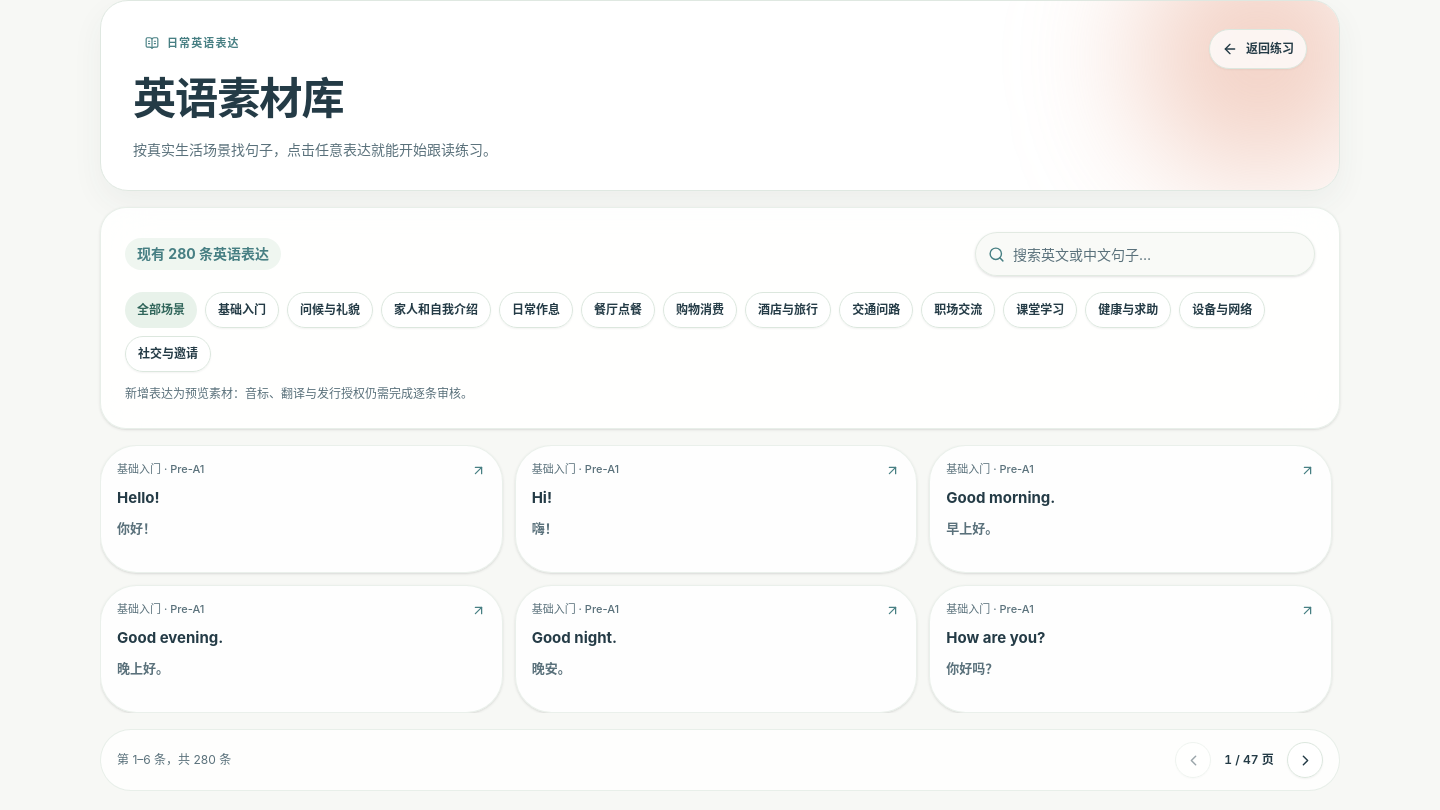
Test: Voxnelo searchable course catalog › searches bilingual source text and resets result pagination
This screenshot has width=1440, height=810.
Click the button named "下一页".
click(1305, 760)  # box top-left (1287, 742), bottom-right (1323, 778)
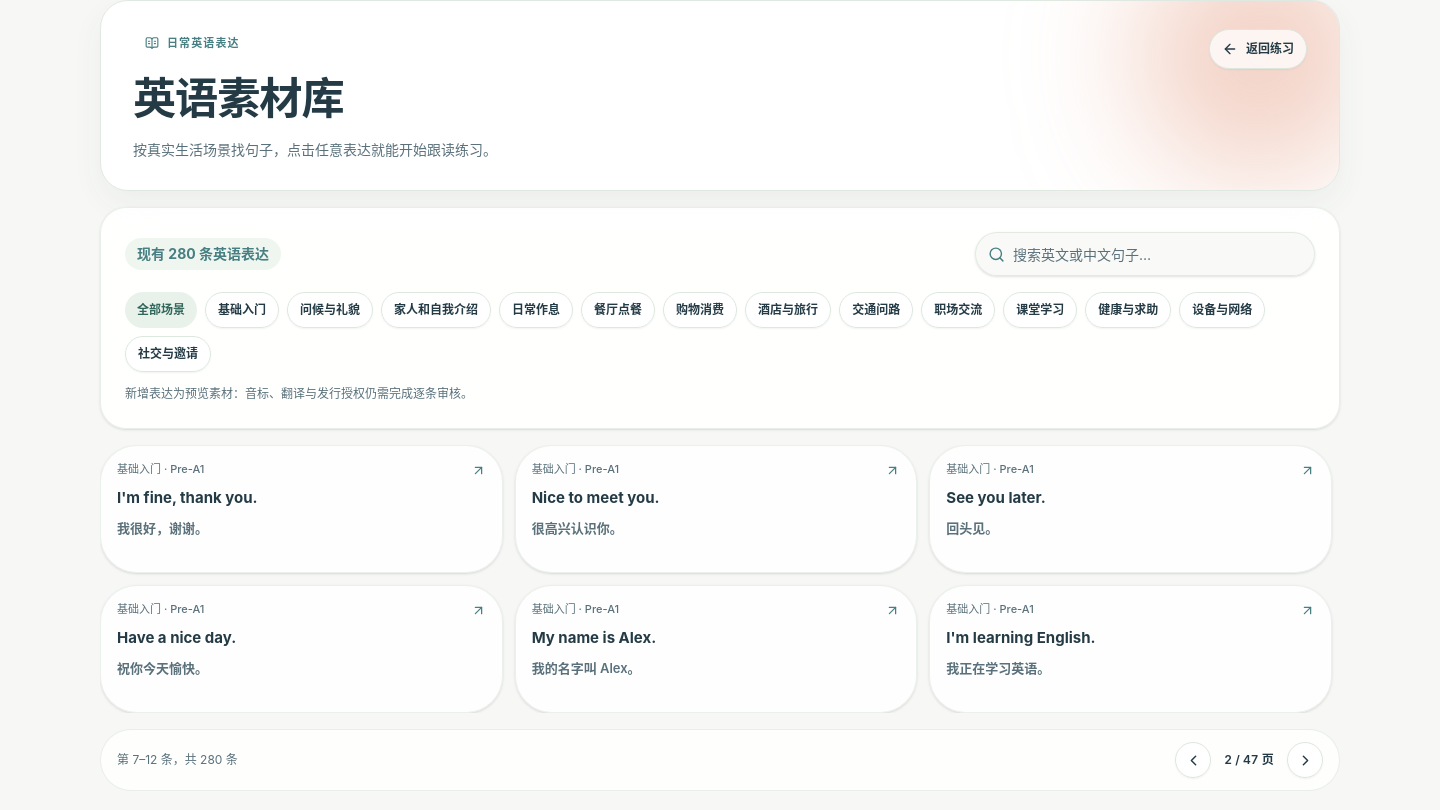
Type "洗衣服" into the search field labelled "搜索英文或中文句子…".
click(1158, 254); type("洗衣服")  # box top-left (1013, 234), bottom-right (1302, 274)
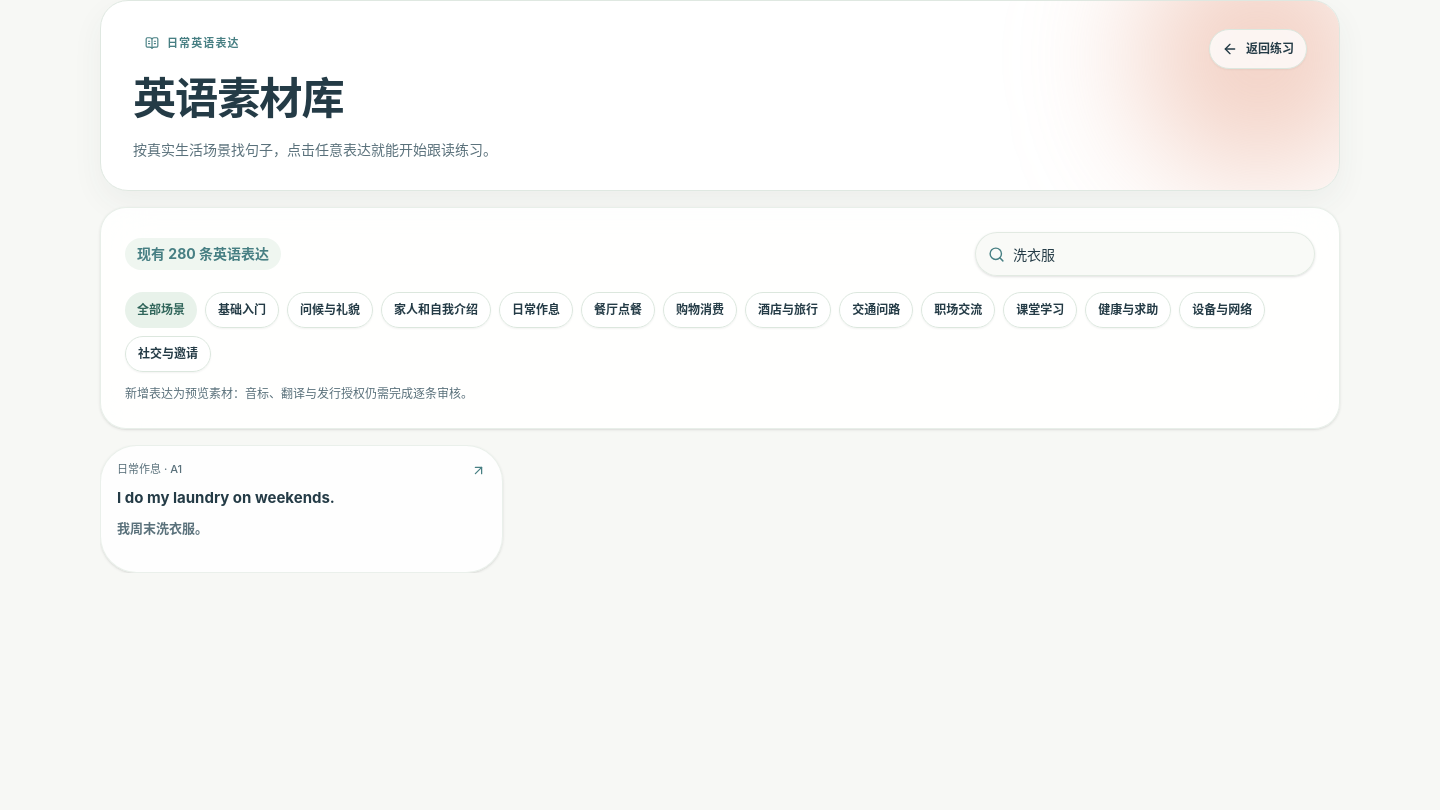
Result: the number of buttons with class "catalogItem" is 1 at top-left (100, 445), bottom-right (503, 573)
Result: the text "I do my laundry on weekends." is shown at top-left (117, 488), bottom-right (335, 507)
Result: the navigation bar "句子列表分页" is gone
Replace the text in the search field named "搜索英文或中文句子…" with "unfindable expression" at x=1158, y=254, box top-left (1013, 234), bottom-right (1302, 274)
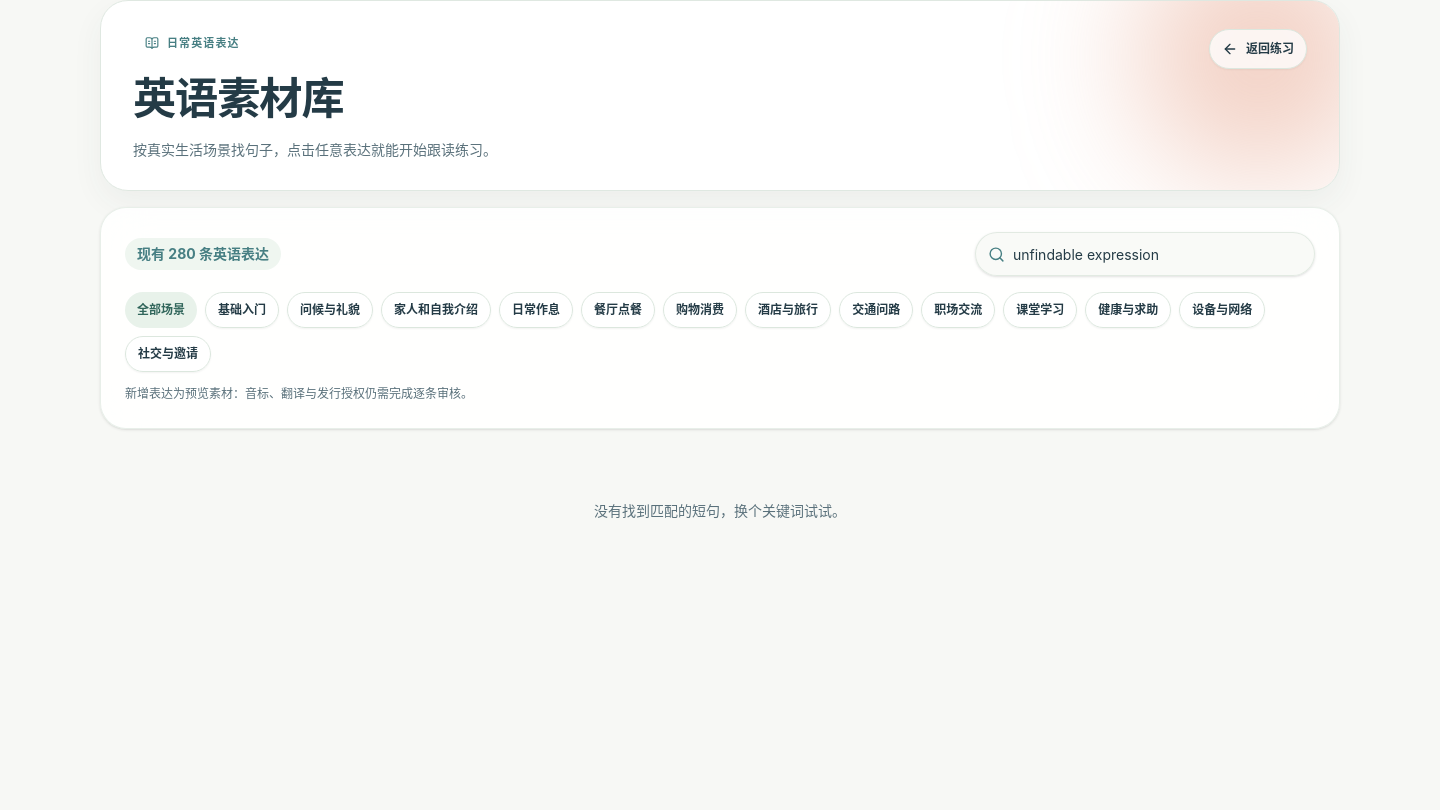
Result: no buttons with class "catalogItem" are shown
Result: the text "没有找到匹配的短句，换个关键词试试。" is shown at top-left (594, 502), bottom-right (846, 519)
